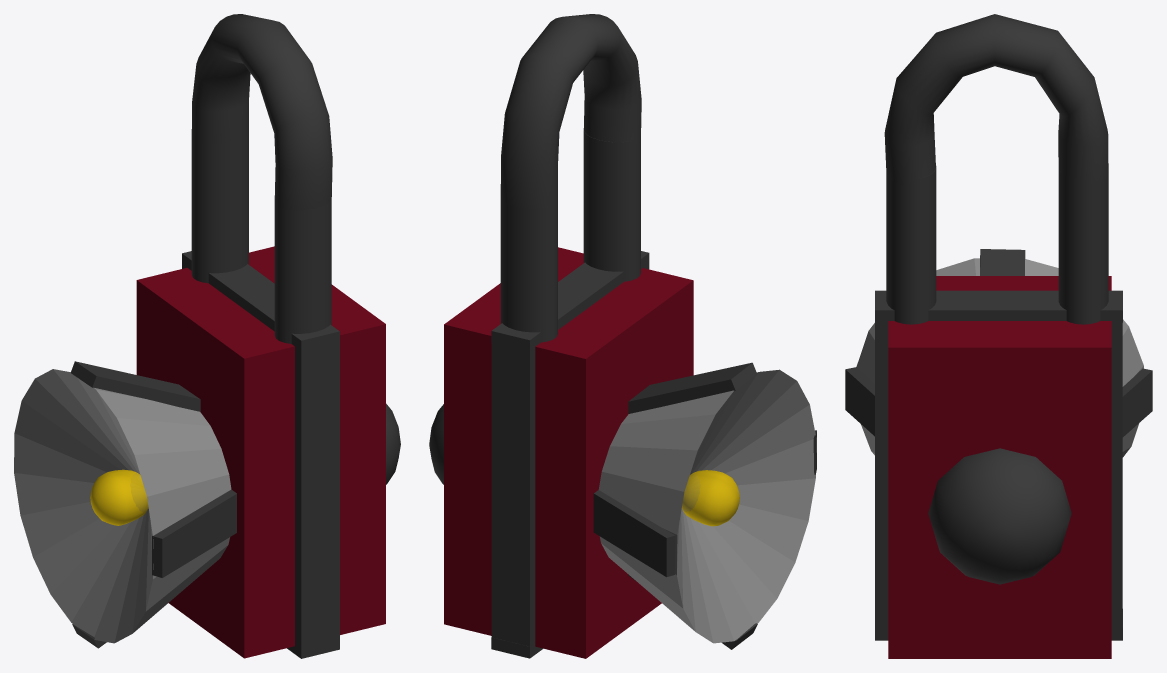
File: Torcia.fbx
3 renders of one model, left to right at view 1: azimuth 30°, elevation 25°; view 2: azimuth 150°, elevation 25°; view 3: azimuth 270°, elevation 25°, orthographic. The views are drawn at different scales.
Parts seen in each view (by area): view 1: pCube9, pCylinder2, pCylinder5, pCube10, pCylinder4, pCylinder3, pCube4, pCube11, pCube6, pSphere1, pSphere2, pCube12; view 2: pCube9, pCylinder2, pCylinder5, pCube5, pCylinder3, pCylinder4, pCube3, pCube11, pCube6, pSphere1, pSphere2, pCube12; view 3: pCube9, pCylinder5, pSphere2, pCylinder3, pCylinder4, pCube11, pCube10, pCube5, pCylinder2, pCube3, pCube4, pCube6.
Part boxes in pixels (bbox=[...]): pCube9: bbox=[136, 246, 385, 658]; pCylinder2: bbox=[14, 369, 231, 643]; pCylinder5: bbox=[191, 14, 332, 210]; pCube10: bbox=[295, 342, 339, 647]; pCylinder4: bbox=[191, 132, 248, 283]; pCylinder3: bbox=[274, 195, 331, 343]; pCube4: bbox=[152, 489, 236, 577]; pCube11: bbox=[182, 251, 339, 352]; pCube6: bbox=[70, 361, 200, 411]; pSphere1: bbox=[90, 469, 148, 525]; pSphere2: bbox=[386, 403, 400, 484]; pCube12: bbox=[287, 638, 339, 658]; pCube9: bbox=[444, 247, 693, 658]; pCylinder2: bbox=[598, 369, 816, 643]; pCylinder5: bbox=[500, 14, 641, 208]; pCube5: bbox=[491, 343, 535, 647]; pCylinder3: bbox=[583, 128, 640, 281]; pCylinder4: bbox=[500, 195, 557, 342]; pCube3: bbox=[593, 490, 675, 577]; pCube11: bbox=[491, 251, 649, 351]; pCube6: bbox=[628, 362, 756, 413]; pSphere1: bbox=[682, 470, 739, 526]; pSphere2: bbox=[429, 404, 443, 484]; pCube12: bbox=[491, 637, 542, 658]; pCube9: bbox=[888, 276, 1111, 658]; pCylinder5: bbox=[884, 14, 1108, 185]; pSphere2: bbox=[928, 448, 1071, 584]; pCylinder3: bbox=[886, 166, 936, 324]; pCylinder4: bbox=[1058, 168, 1108, 324]; pCube11: bbox=[875, 290, 1122, 322]; pCube10: bbox=[875, 321, 888, 629]; pCube5: bbox=[1111, 321, 1122, 629]; pCylinder2: bbox=[856, 258, 1143, 457]; pCube3: bbox=[1122, 368, 1152, 437]; pCube4: bbox=[845, 367, 874, 436]; pCube6: bbox=[980, 249, 1025, 275].
Size of the model in its own units: 2.58 by 4.71 by 2.14.
